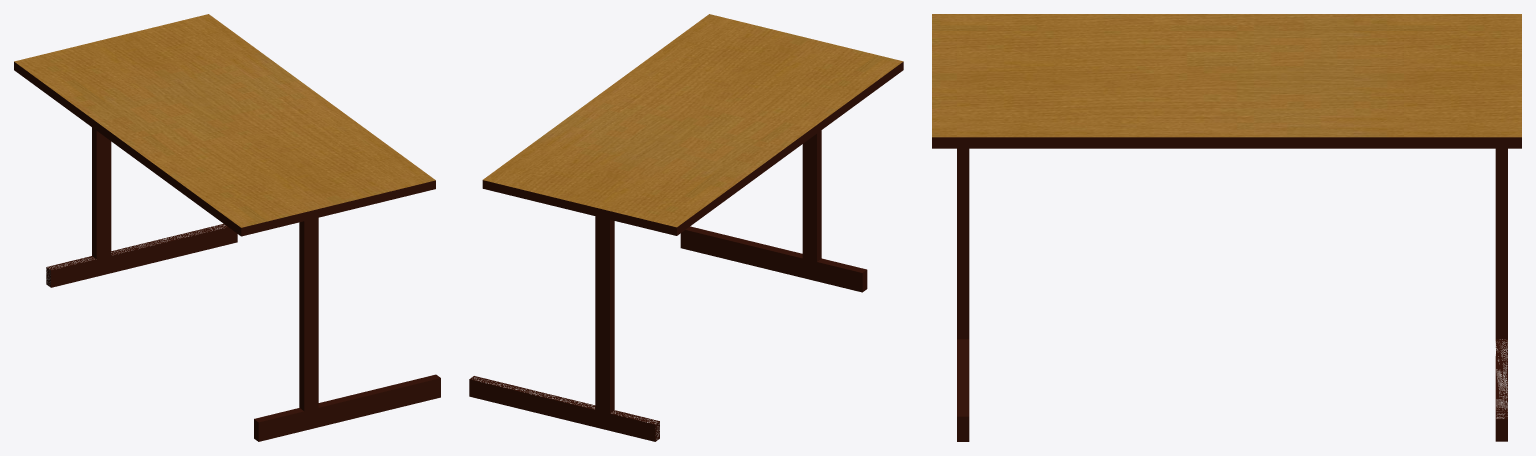
Rendered from StudentDesk.dae.
3 views of the same model, side by side, from view 1: azimuth 30°, elevation 25°; view 2: azimuth 150°, elevation 25°; view 3: azimuth 270°, elevation 25° (orthographic). The views are drawn at different scales.
Visible parts, largest first — view 1: SketchUp (×4); view 2: SketchUp (×4); view 3: SketchUp (×4).
Part boxes in pixels (x1,y1,x2,y2): SketchUp (×4): (14, 14, 440, 441); SketchUp (×4): (469, 14, 903, 441); SketchUp (×4): (932, 14, 1521, 441).
Size of the model in its own units: 25.75 by 47.5 by 26.25.
Materials: 4 (1 with a texture image).
